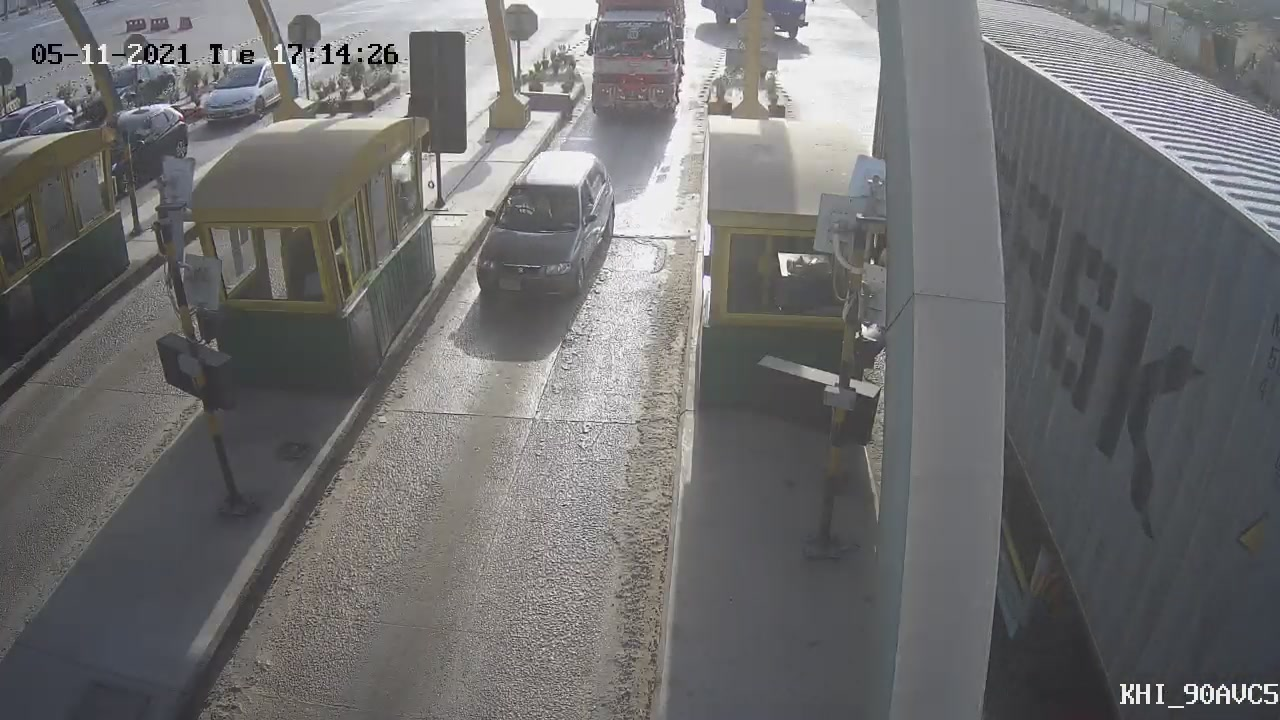F1: (453, 135, 639, 327)
